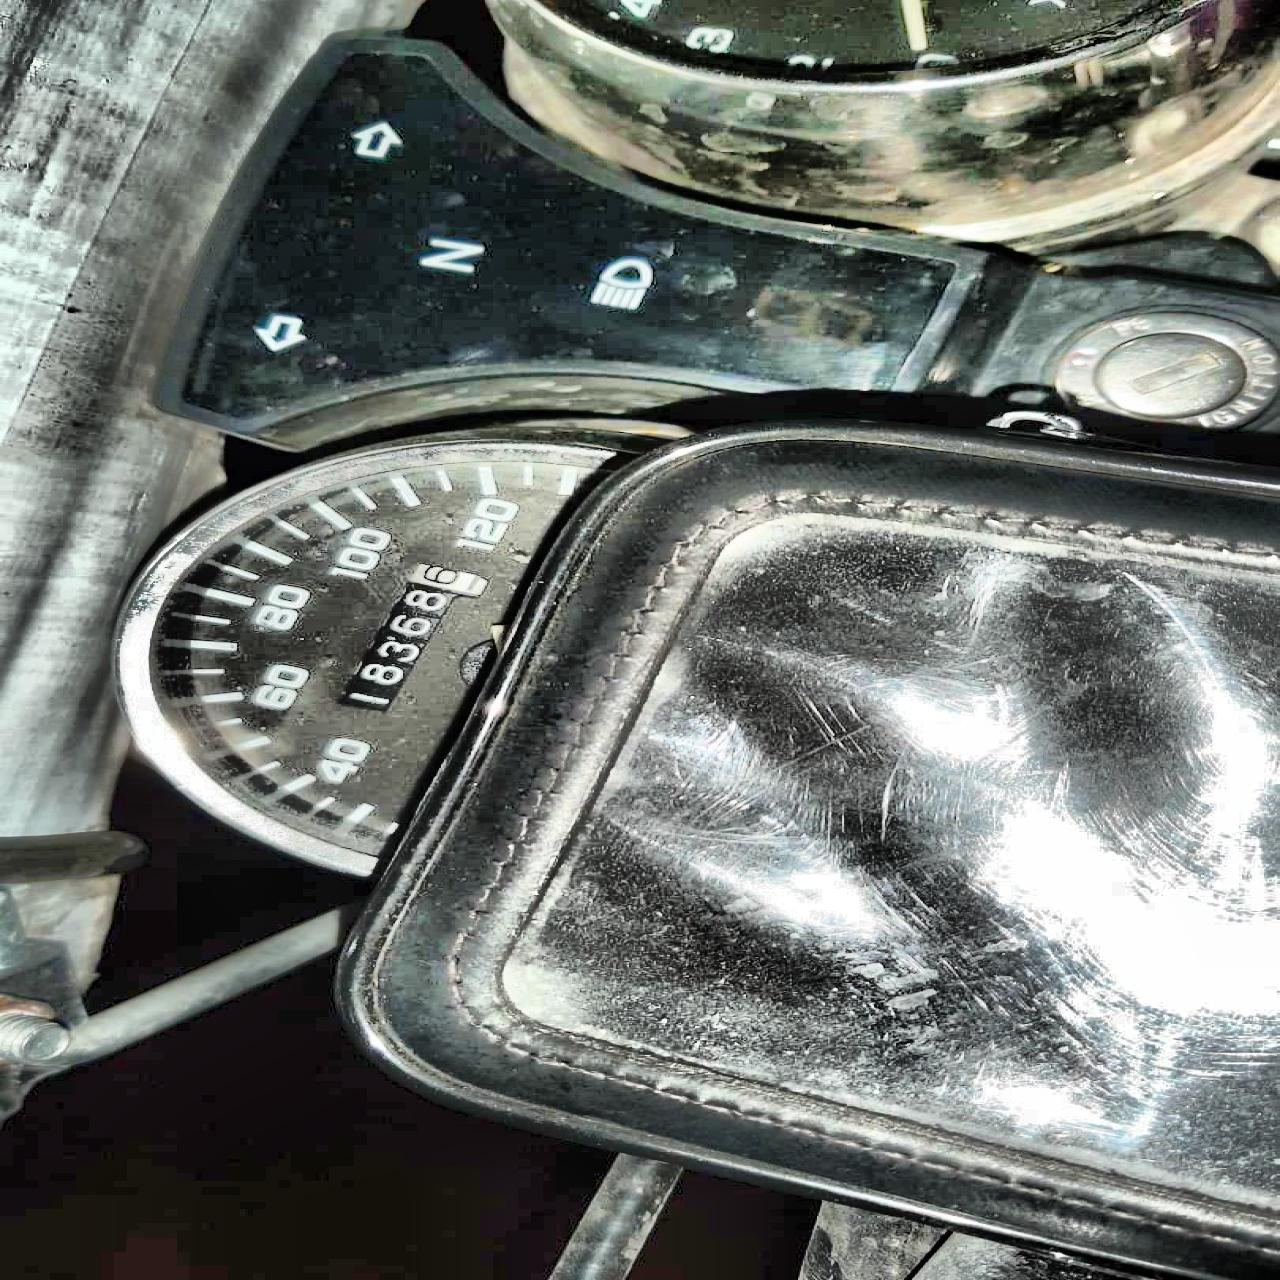1: (338, 690, 399, 706), (324, 566, 373, 580)
3: (368, 640, 427, 660)
6: (384, 613, 435, 634), (414, 564, 459, 584)
8: (353, 662, 410, 685), (399, 588, 447, 611)
odometer: (332, 561, 496, 714)
